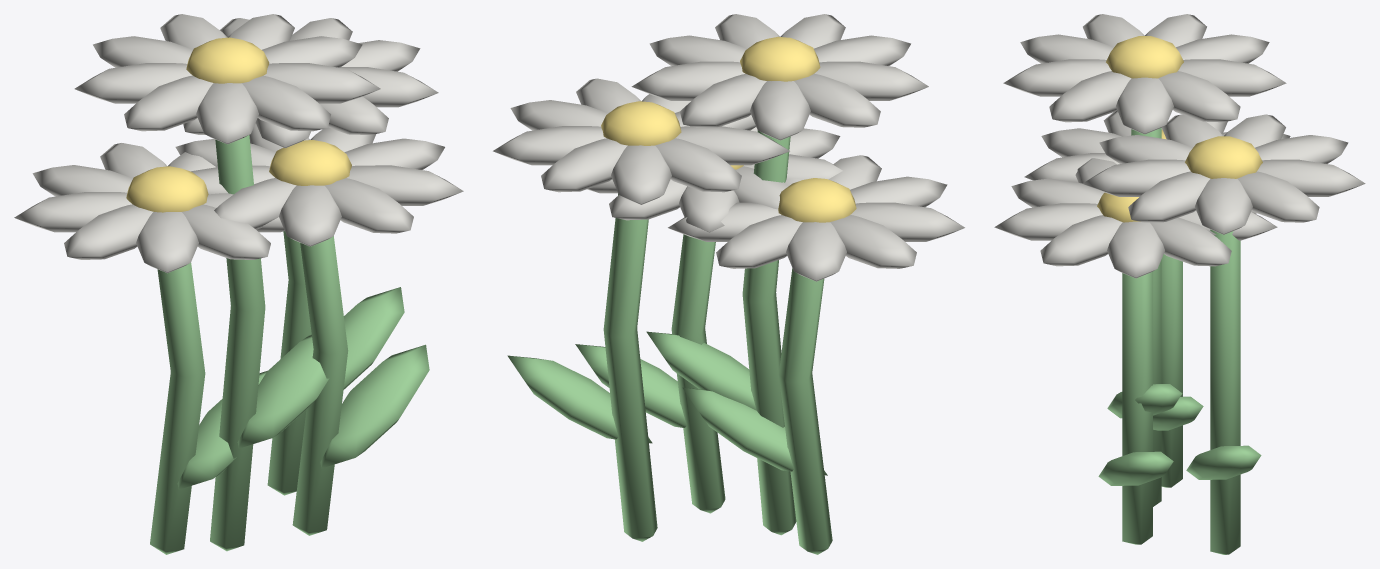
File: flowers_margarida_cluster.glb
3 views of the same model, side by side, from view 1: azimuth 30°, elevation 25°; view 2: azimuth 150°, elevation 25°; view 3: azimuth 270°, elevation 25° (orthographic). The views are drawn at different scales.
Parts seen in each view (by area): view 1: flowers_margarida_cluster; view 2: flowers_margarida_cluster; view 3: flowers_margarida_cluster.
Boxes of the visible parts, x1,y1,x2,y2 form: flowers_margarida_cluster: [14, 14, 463, 554]; flowers_margarida_cluster: [493, 14, 964, 554]; flowers_margarida_cluster: [994, 14, 1365, 554].
Bounding box in the file's own units: 0.3896 × 0.46 × 0.3302.
